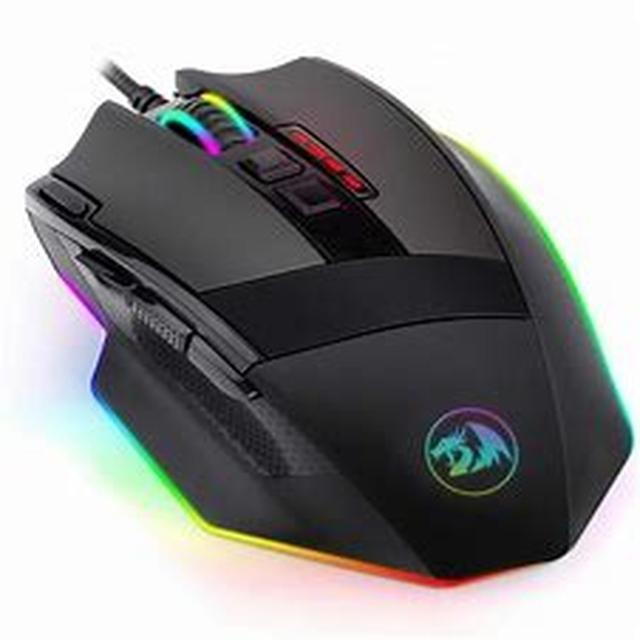mouse: (58, 7, 583, 586)
